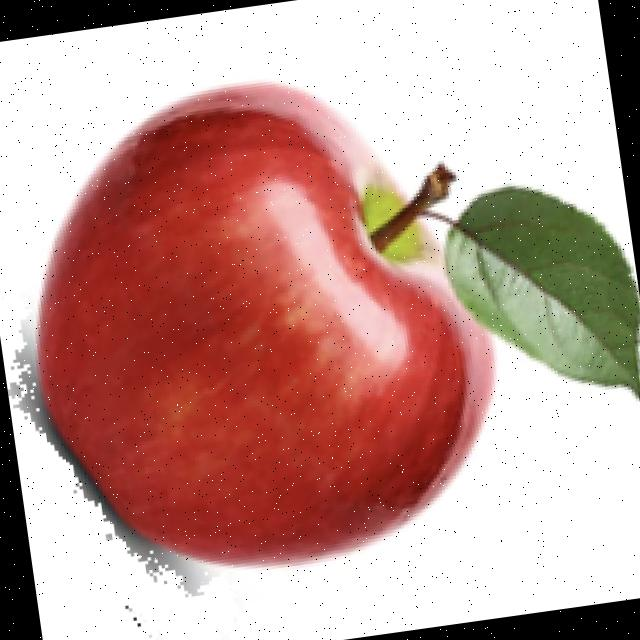apple: (9, 75, 640, 598)
